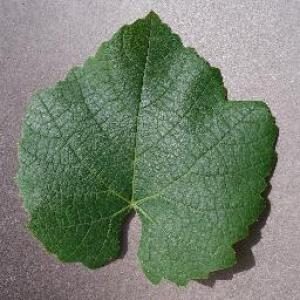Folha: (13, 8, 279, 287)
